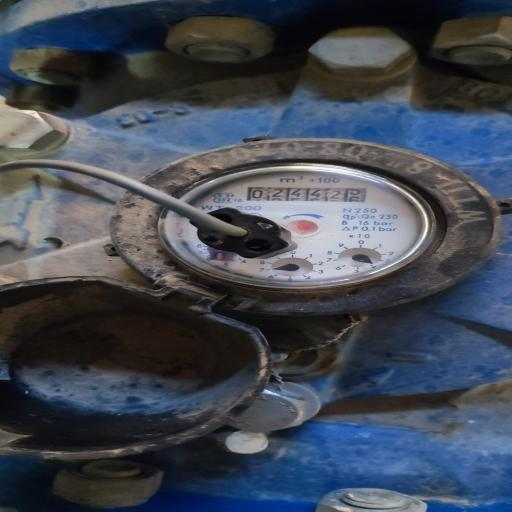0: (249, 189, 265, 199)
2: (268, 188, 286, 198), (327, 189, 343, 199)
4: (288, 188, 306, 198), (308, 188, 325, 198)
6: (347, 195, 362, 202)
medida: (245, 187, 368, 202)
